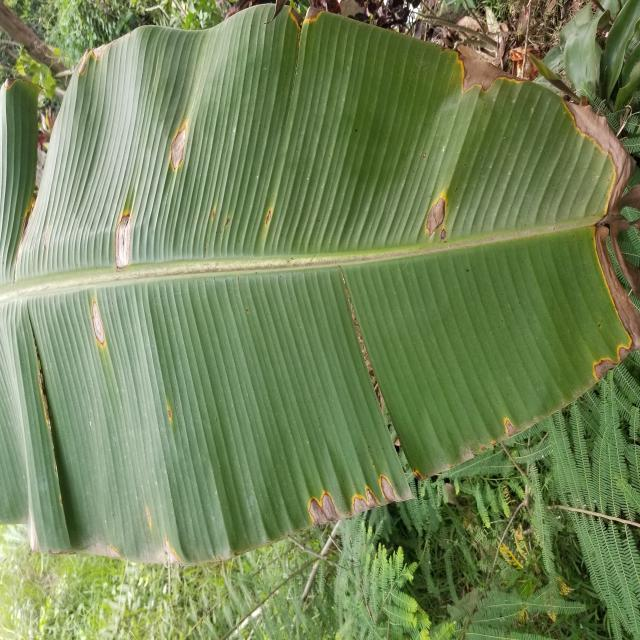Early_rust: (447, 298, 640, 501), (255, 411, 435, 541), (552, 78, 640, 320), (55, 203, 163, 364), (21, 504, 212, 585), (0, 0, 133, 104), (401, 28, 534, 114), (394, 178, 488, 262), (147, 114, 237, 190), (240, 0, 354, 57)
